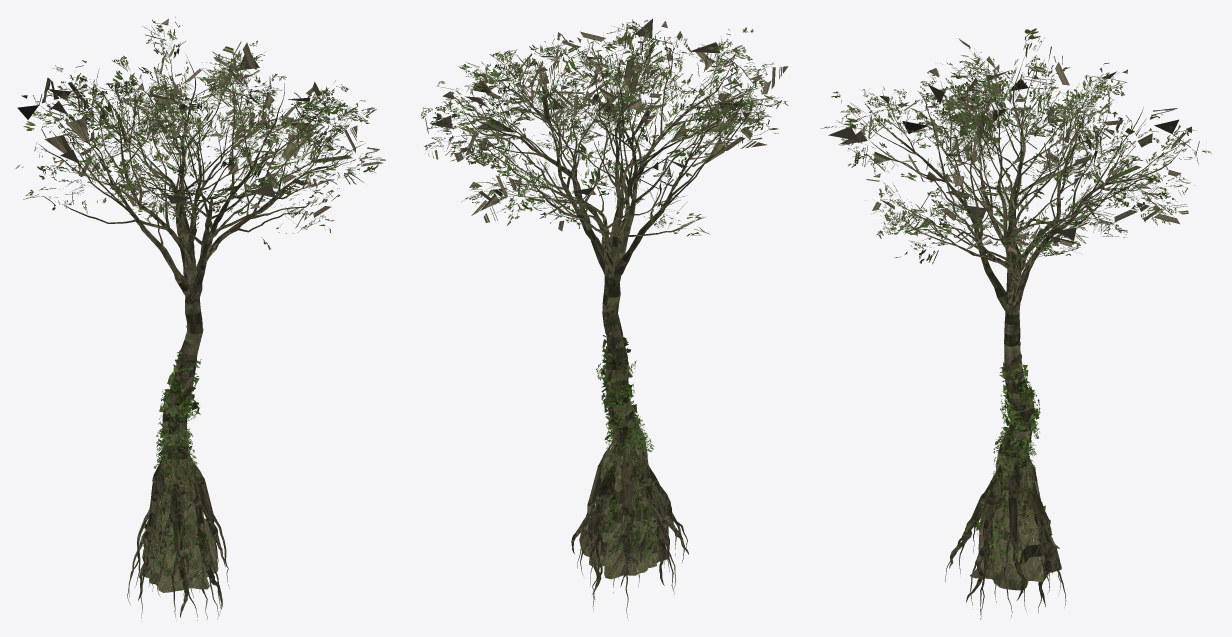
File: Tree - Alien Tree 04 2-hVOW-8RM.glb
3 views of the same model, side by side, from view 1: azimuth 30°, elevation 25°; view 2: azimuth 150°, elevation 25°; view 3: azimuth 270°, elevation 25° (orthographic).
Visible parts, largest first — view 1: Tree_04_2_L0(Clone), Tree_04_2_plants_L0(Clone); view 2: Tree_04_2_L0(Clone), Tree_04_2_plants_L0(Clone); view 3: Tree_04_2_L0(Clone), Tree_04_2_plants_L0(Clone).
Boxes of the visible parts, <box> form: Tree_04_2_L0(Clone): <box>15,17,385,620</box>; Tree_04_2_plants_L0(Clone): <box>143,352,211,574</box>; Tree_04_2_L0(Clone): <box>421,18,788,620</box>; Tree_04_2_plants_L0(Clone): <box>581,335,666,559</box>; Tree_04_2_L0(Clone): <box>820,28,1211,619</box>; Tree_04_2_plants_L0(Clone): <box>976,362,1059,559</box>.
Bounding box in the file's own units: 13.25 × 22.38 × 14.61.
Materials: 3 (3 with a texture image).
